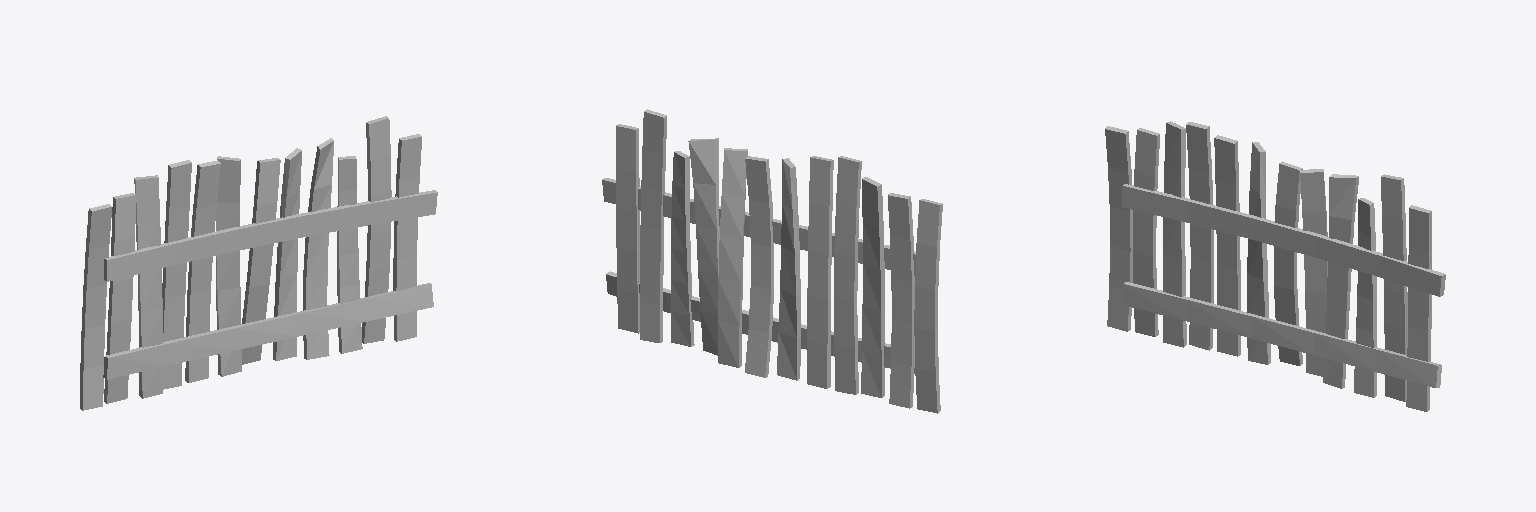
The model's file is oldfence.obj.
3 renders of one model, left to right at view 1: azimuth 30°, elevation 25°; view 2: azimuth 150°, elevation 25°; view 3: azimuth 330°, elevation 25°, orthographic.
Parts seen in each view (by area): view 1: Old_Fence; view 2: Old_Fence; view 3: Old_Fence.
Boxes of the visible parts, x1=… form: Old_Fence: x1=80, y1=116, x2=437, y2=410; Old_Fence: x1=602, y1=109, x2=942, y2=413; Old_Fence: x1=1105, y1=121, x2=1445, y2=411.
Bounding box in the file's own units: 99.77 × 62.91 × 10.93.